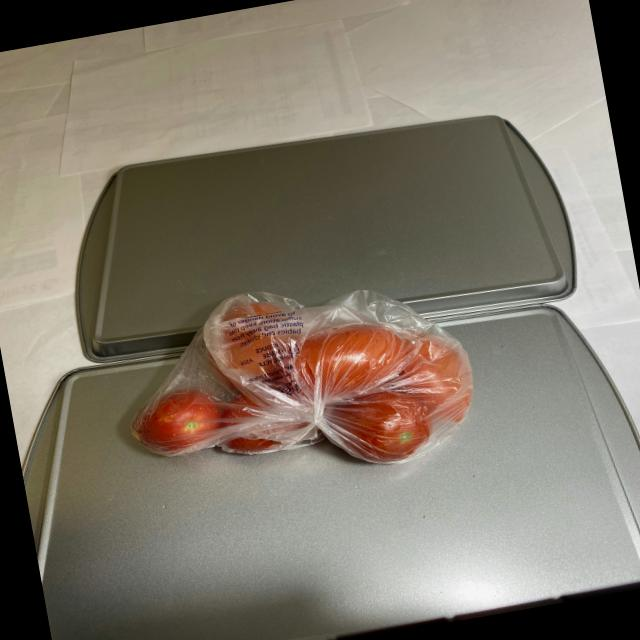tomato: (112, 260, 487, 504)
